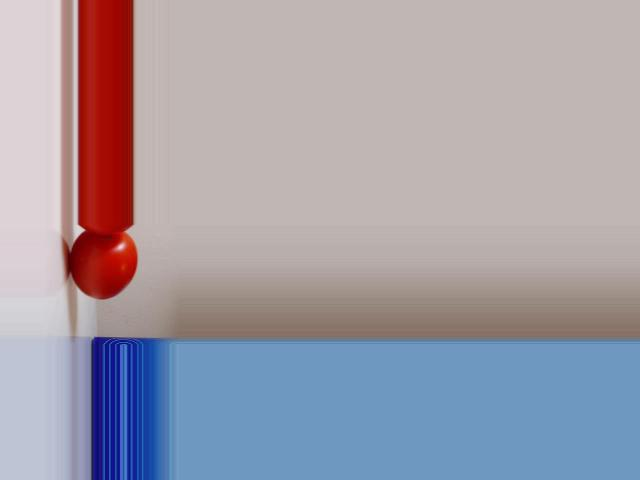tomato: (69, 232, 137, 299)
